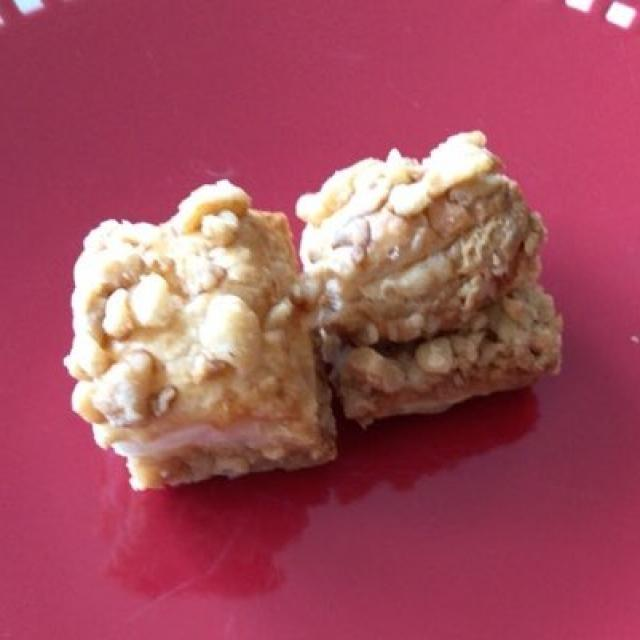puff-pastry: (79, 143, 564, 486)
